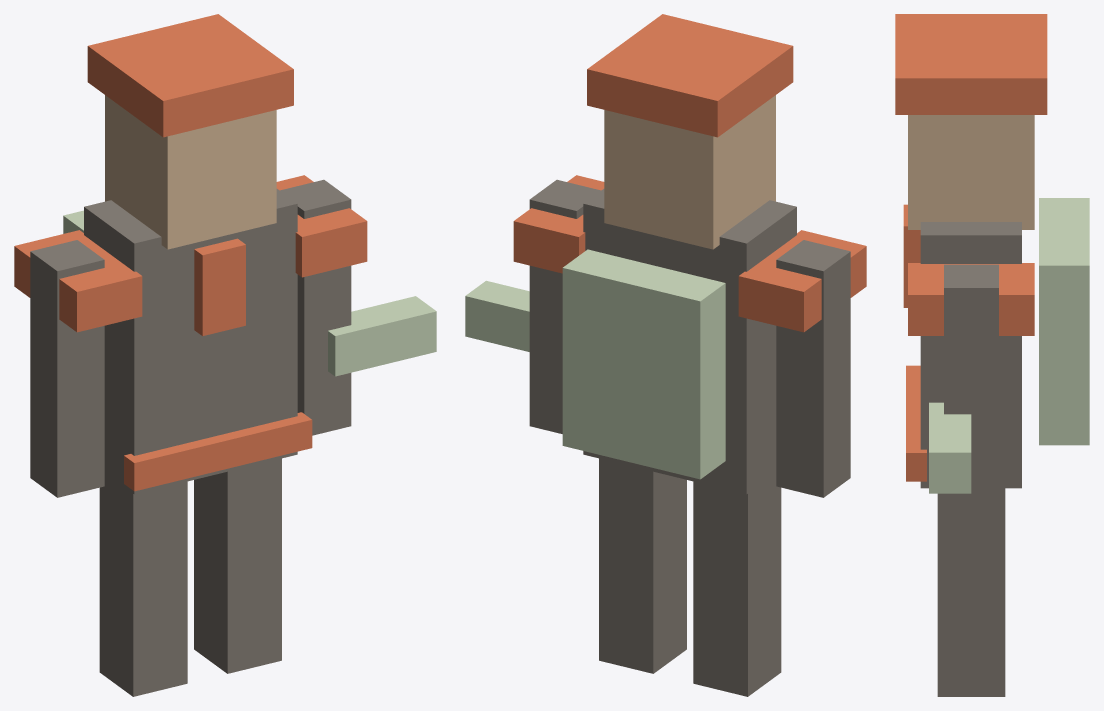
The model's file is 01_maelis_trenchmark_medic_of_glass.glb.
3 renders of one model, left to right at view 1: azimuth 30°, elevation 25°; view 2: azimuth 150°, elevation 25°; view 3: azimuth 270°, elevation 25°, orthographic.
Parts seen in each view (by area): view 1: Maelis Trenchmark, Medic of Glass; view 2: Maelis Trenchmark, Medic of Glass; view 3: Maelis Trenchmark, Medic of Glass.
Boxes of the visible parts, left/top/right/bottom form: Maelis Trenchmark, Medic of Glass: left=14, top=14, right=436, bottom=696; Maelis Trenchmark, Medic of Glass: left=465, top=14, right=866, bottom=696; Maelis Trenchmark, Medic of Glass: left=895, top=14, right=1089, bottom=696.
Bounding box in the file's own units: 1.06 × 1.66 × 0.4772.
